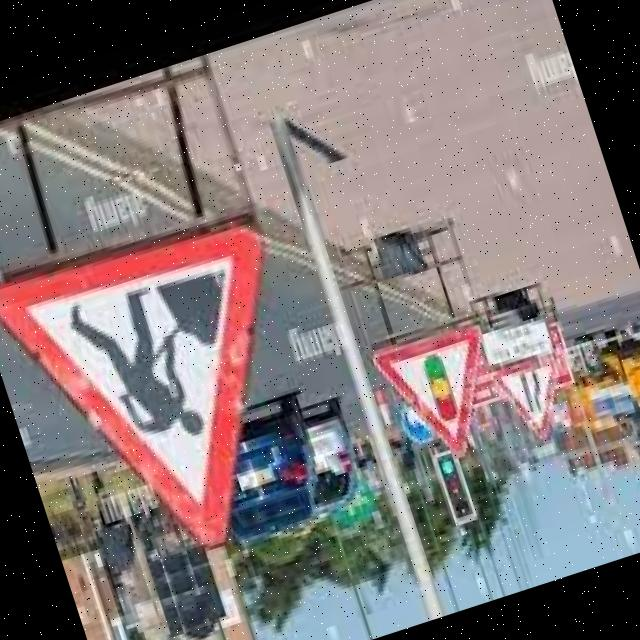light_traffic: (374, 313, 513, 473)
road_work: (0, 198, 345, 592)
